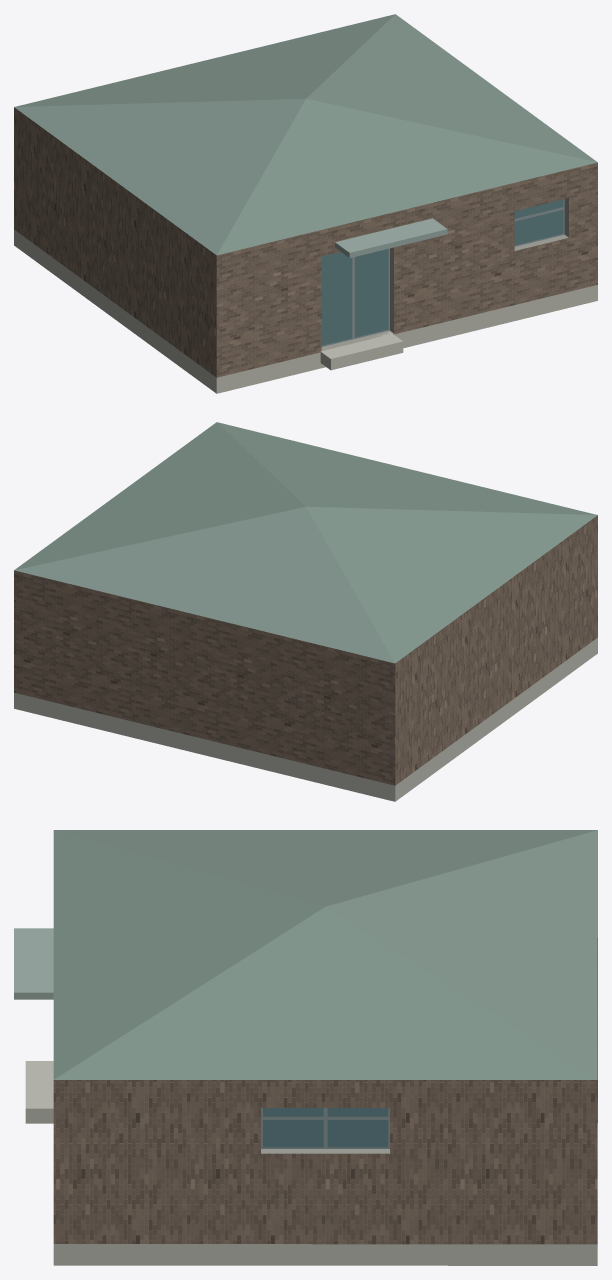
3 views of the same model, one above another, from view 1: azimuth 30°, elevation 25°; view 2: azimuth 150°, elevation 25°; view 3: azimuth 270°, elevation 25° (orthographic). The views are drawn at different scales.
Parts seen in each view (by area): view 1: baegun-annex-2__unornamentedHip, baegun-annex-2__forestServiceHouse_face0, baegun-annex-2__forestServiceHouse_face1, baegun-annex-2__forestServiceHouseBase, baegun-annex-2__forestServiceHouse_face0_entry, baegun-annex-2__smallDoorWeatherHood, baegun-annex-2__entranceThreshold_0, baegun-annex-2__forestServiceHouse_face0_glass, baegun-annex-2__reveal, baegun-annex-2__frame; view 2: baegun-annex-2__unornamentedHip, baegun-annex-2__forestServiceHouse_face2, baegun-annex-2__forestServiceHouse_face1, baegun-annex-2__forestServiceHouseBase; view 3: baegun-annex-2__unornamentedHip, baegun-annex-2__forestServiceHouse_face3, baegun-annex-2__forestServiceHouseBase, baegun-annex-2__forestServiceHouse_face3_glass, baegun-annex-2__smallDoorWeatherHood, baegun-annex-2__entranceThreshold_0, baegun-annex-2__frame, baegun-annex-2__reveal.
Boxes of the visible parts, <box> form: baegun-annex-2__unornamentedHip: <box>14,14,597,255</box>; baegun-annex-2__forestServiceHouse_face0: <box>216,162,597,377</box>; baegun-annex-2__forestServiceHouse_face1: <box>14,107,216,377</box>; baegun-annex-2__forestServiceHouseBase: <box>14,229,597,393</box>; baegun-annex-2__forestServiceHouse_face0_entry: <box>321,249,388,345</box>; baegun-annex-2__smallDoorWeatherHood: <box>335,218,447,257</box>; baegun-annex-2__entranceThreshold_0: <box>320,331,403,370</box>; baegun-annex-2__forestServiceHouse_face0_glass: <box>514,199,563,245</box>; baegun-annex-2__reveal: <box>321,198,568,350</box>; baegun-annex-2__frame: <box>321,199,564,346</box>; baegun-annex-2__unornamentedHip: <box>14,422,597,663</box>; baegun-annex-2__forestServiceHouse_face2: <box>14,570,395,785</box>; baegun-annex-2__forestServiceHouse_face1: <box>395,515,597,785</box>; baegun-annex-2__forestServiceHouseBase: <box>14,637,597,801</box>; baegun-annex-2__unornamentedHip: <box>53,830,597,1079</box>; baegun-annex-2__forestServiceHouse_face3: <box>53,1080,597,1244</box>; baegun-annex-2__forestServiceHouseBase: <box>53,1102,597,1265</box>; baegun-annex-2__forestServiceHouse_face3_glass: <box>263,1108,388,1147</box>; baegun-annex-2__smallDoorWeatherHood: <box>14,928,53,999</box>; baegun-annex-2__entranceThreshold_0: <box>25,1061,53,1123</box>; baegun-annex-2__frame: <box>261,1108,389,1148</box>; baegun-annex-2__reveal: <box>261,1149,389,1153</box>.
Size of the model in its own units: 10.53 by 4.6 by 10.4.
Materials: 7 (1 with a texture image).
